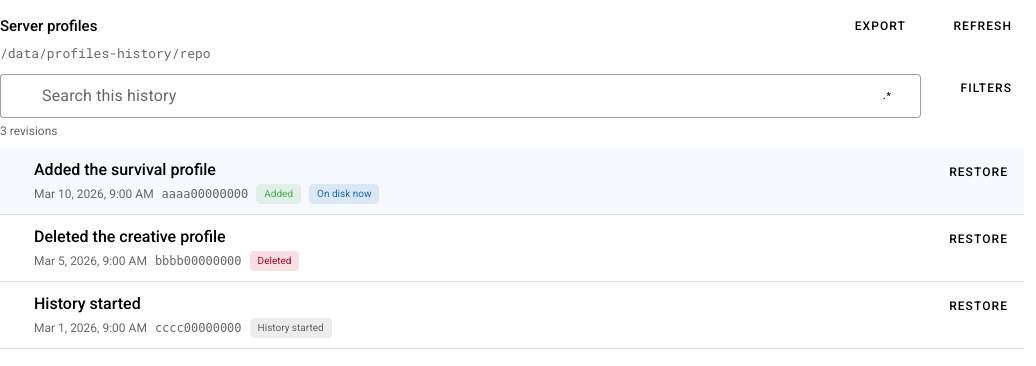
Test: filters start collapsed and compose › shows a badge naming how many filters are active
The image size is (1036, 366).
Step 1. Type "profile" into the search field labelled "Search this history" → (428, 94), box left=36, top=74, right=821, bottom=114
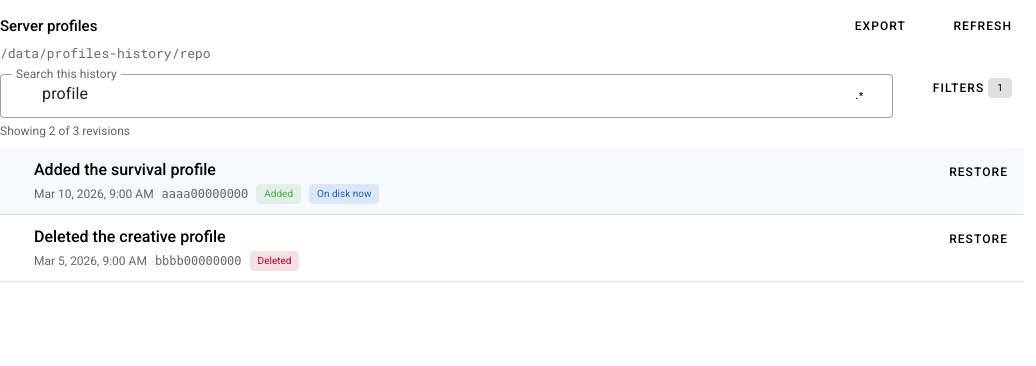
Now the button "Filters 1" is shown, box left=901, top=74, right=1024, bottom=102
